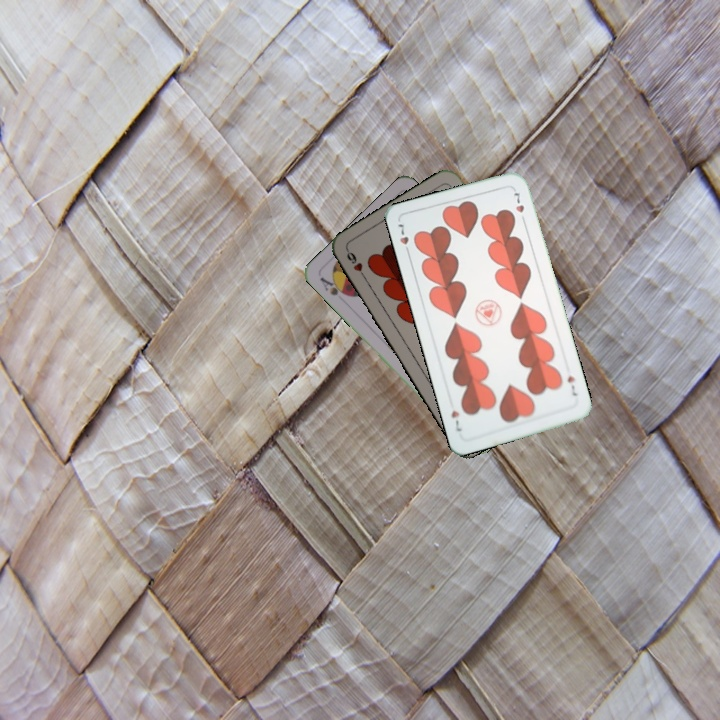H7: (394, 218, 412, 258), (563, 372, 580, 399)
H9: (342, 246, 369, 282)
SA: (316, 273, 352, 300)
